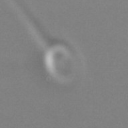normal: (4, 1, 49, 46)
